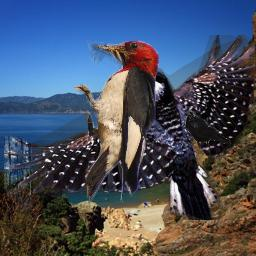Crow: (184, 110, 231, 144)
Woodpecker: (4, 35, 256, 220), (74, 40, 159, 203)
